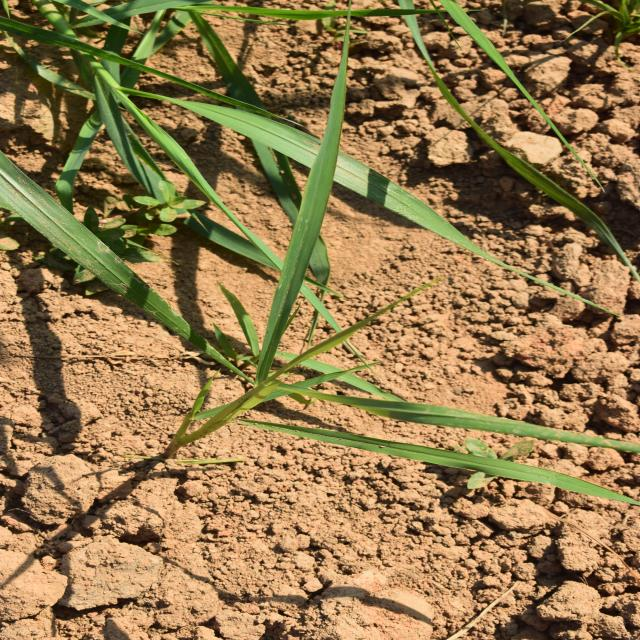green_foxtail: (124, 36, 510, 508)
